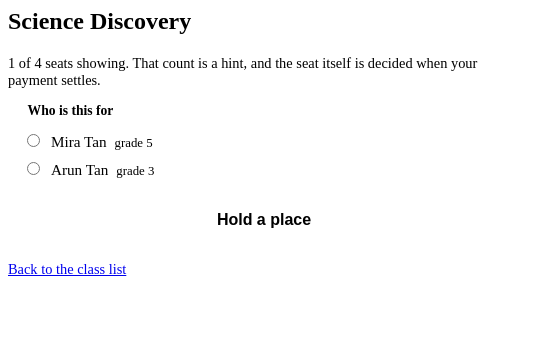
it: the booking screen › edge: a class that filled while the parent was choosing says what happened
Step 1. Click the radio button with test id "child-option" showing "Arun Tan grade 3" → x=34, y=169, box [27,162,40,175]
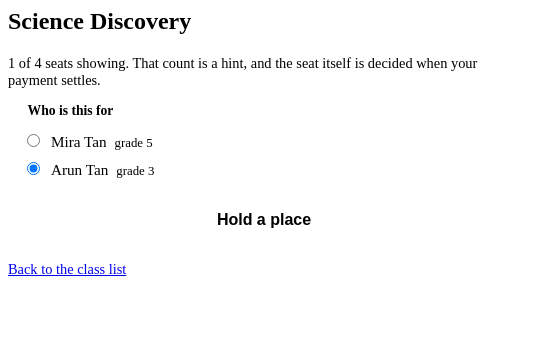
Step 2. Click the button with test id "book-submit" → x=264, y=220, box [8,203,520,237]
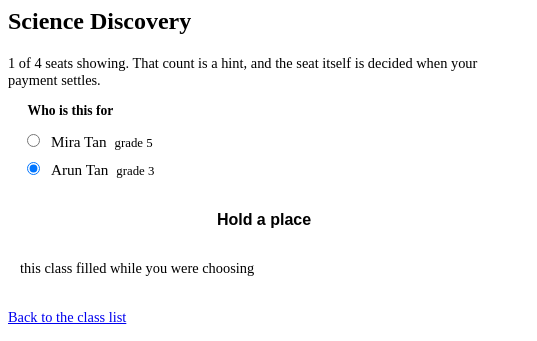
Check: the message with test id "book-failure" reads "this class filled while you were choosing", box [20,260,254,276]
